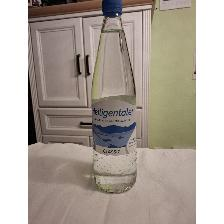Wasser: (89, 0, 137, 194)
